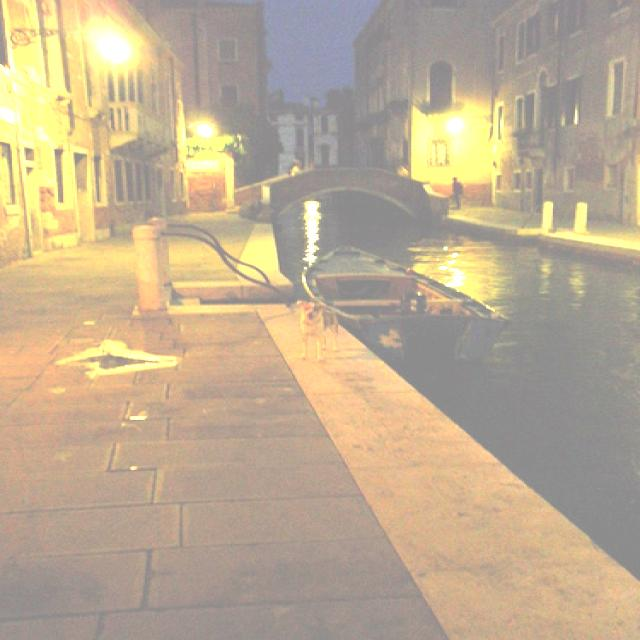Dog: (280, 299, 378, 375)
